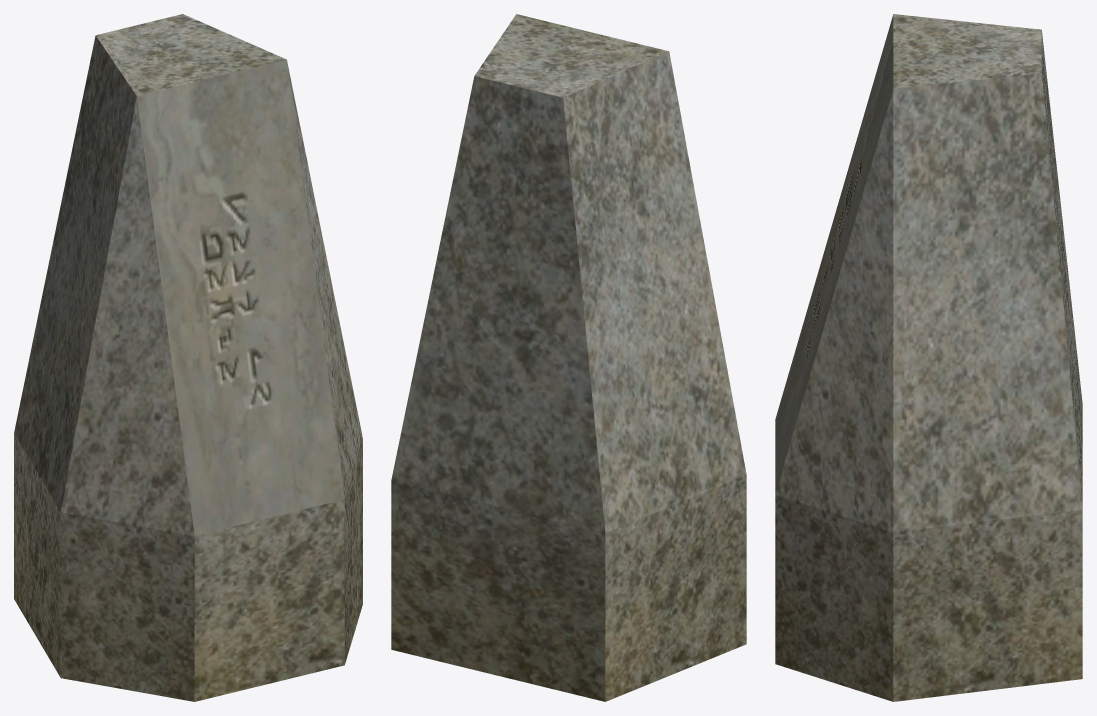
The model's file is thm_all_gravestone_s02_l0.fbx.
3 renders of one model, left to right at view 1: azimuth 30°, elevation 25°; view 2: azimuth 150°, elevation 25°; view 3: azimuth 270°, elevation 25°, orthographic. The views are drawn at different scales.
Parts seen in each view (by area): view 1: mesh_node; view 2: mesh_node; view 3: mesh_node.
Boxes of the visible parts, bbox=[...] form: mesh_node: bbox=[14, 14, 362, 701]; mesh_node: bbox=[391, 14, 746, 701]; mesh_node: bbox=[775, 14, 1082, 701].
Bounding box in the file's own units: 0.5147 × 0.9174 × 0.4444.
